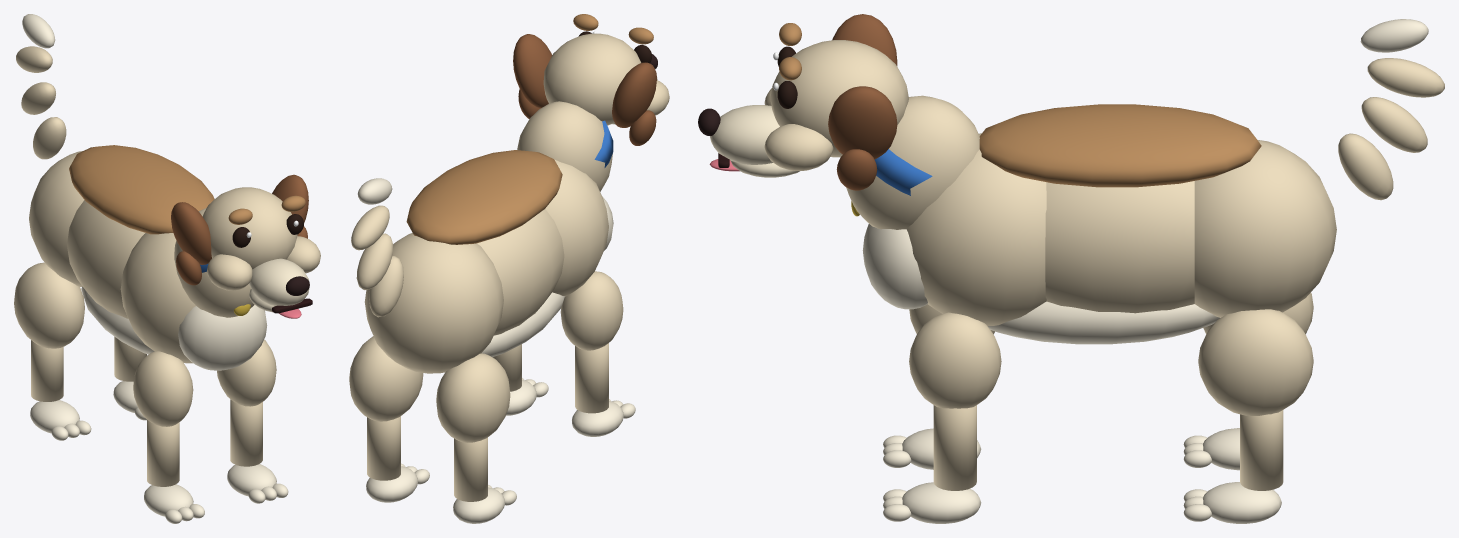
The model's file is dog1.glb.
The picture shows the model from 3 angles, left to right: view 1: azimuth 30°, elevation 25°; view 2: azimuth 150°, elevation 25°; view 3: azimuth 270°, elevation 25°; orthographic projection. The views are drawn at different scales.
Parts seen in each view (by area): view 1: body_e8d8b8, body_b88a5a, head_e8d8b8, legBL_e8d8b8, body_f4ecd8, legFL_e8d8b8, legFR_e8d8b8, head_8a5a3a, tail_e8d8b8, head_f1e6cc, legBL_f4ecd8, legFR_f4ecd8 (+7 smaller); view 2: body_e8d8b8, body_b88a5a, legBL_e8d8b8, legBR_e8d8b8, head_e8d8b8, legFL_e8d8b8, head_8a5a3a, tail_e8d8b8, body_f4ecd8, legFL_f4ecd8, legBL_f4ecd8, legBR_f4ecd8 (+5 smaller); view 3: body_e8d8b8, body_b88a5a, legBR_e8d8b8, legFR_e8d8b8, body_f4ecd8, head_e8d8b8, tail_e8d8b8, head_8a5a3a, head_f1e6cc, legBR_f4ecd8, legFR_f4ecd8, legBL_f4ecd8 (+4 smaller).
Boxes of the visible parts, x1,y1,x2,y2 form: body_e8d8b8: (29, 151, 254, 363); body_b88a5a: (69, 145, 214, 234); head_e8d8b8: (202, 187, 320, 290); legBL_e8d8b8: (14, 262, 84, 401); body_f4ecd8: (81, 286, 267, 370); legFL_e8d8b8: (133, 351, 193, 486); legFR_e8d8b8: (217, 339, 276, 466); head_8a5a3a: (171, 174, 308, 285); tail_e8d8b8: (16, 46, 66, 159); head_f1e6cc: (249, 258, 309, 312); legBL_f4ecd8: (30, 400, 91, 440); legFR_f4ecd8: (227, 464, 288, 503); body_e8d8b8: (364, 101, 612, 373); body_b88a5a: (406, 150, 562, 244); legBL_e8d8b8: (436, 353, 510, 501); legBR_e8d8b8: (349, 336, 423, 480); head_e8d8b8: (543, 33, 669, 125); legFL_e8d8b8: (560, 271, 623, 413); head_8a5a3a: (513, 34, 656, 145); tail_e8d8b8: (351, 205, 403, 317); body_f4ecd8: (482, 196, 613, 357); legFL_f4ecd8: (572, 399, 635, 436); legBL_f4ecd8: (453, 485, 516, 523); legBR_f4ecd8: (366, 463, 429, 502); body_e8d8b8: (846, 95, 1336, 325); body_b88a5a: (979, 104, 1261, 187); legBR_e8d8b8: (1198, 309, 1313, 490); legFR_e8d8b8: (909, 312, 1001, 490); body_f4ecd8: (862, 224, 1219, 344); head_e8d8b8: (764, 40, 908, 170); tail_e8d8b8: (1338, 58, 1444, 200); head_8a5a3a: (828, 14, 897, 190); head_f1e6cc: (710, 105, 799, 177); legBR_f4ecd8: (1183, 482, 1281, 523); legFR_f4ecd8: (883, 482, 981, 523); legBL_f4ecd8: (1183, 428, 1239, 470).
Bounding box in the file's own units: 0.3677 × 0.9018 × 1.29.
